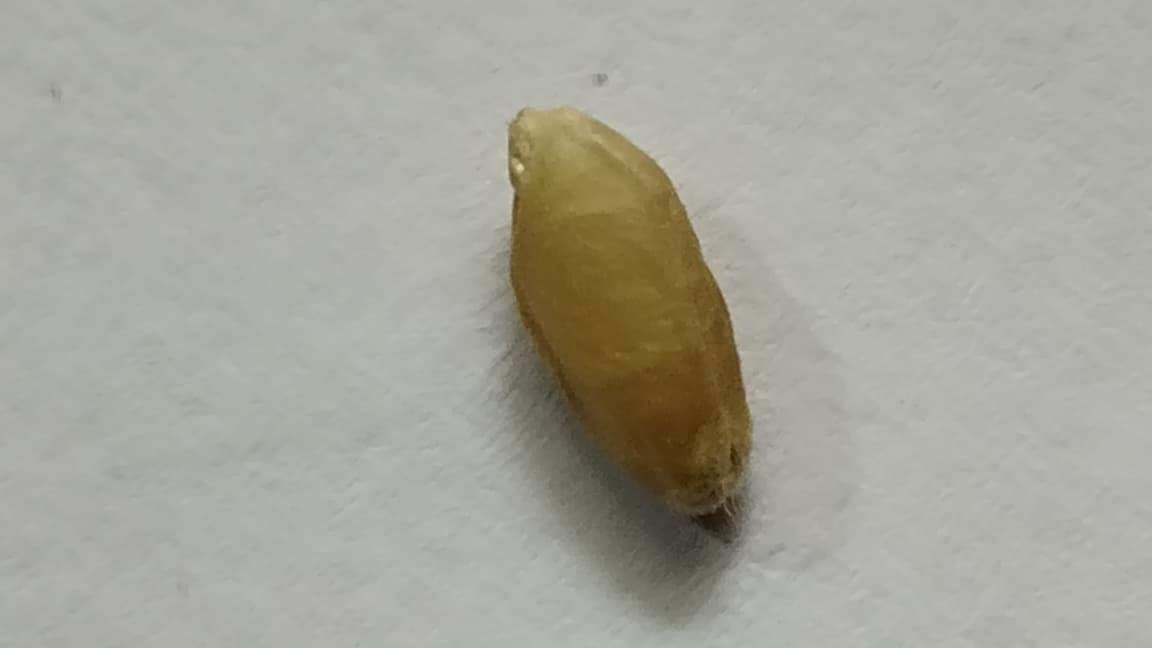healthy: (507, 105, 752, 515)
